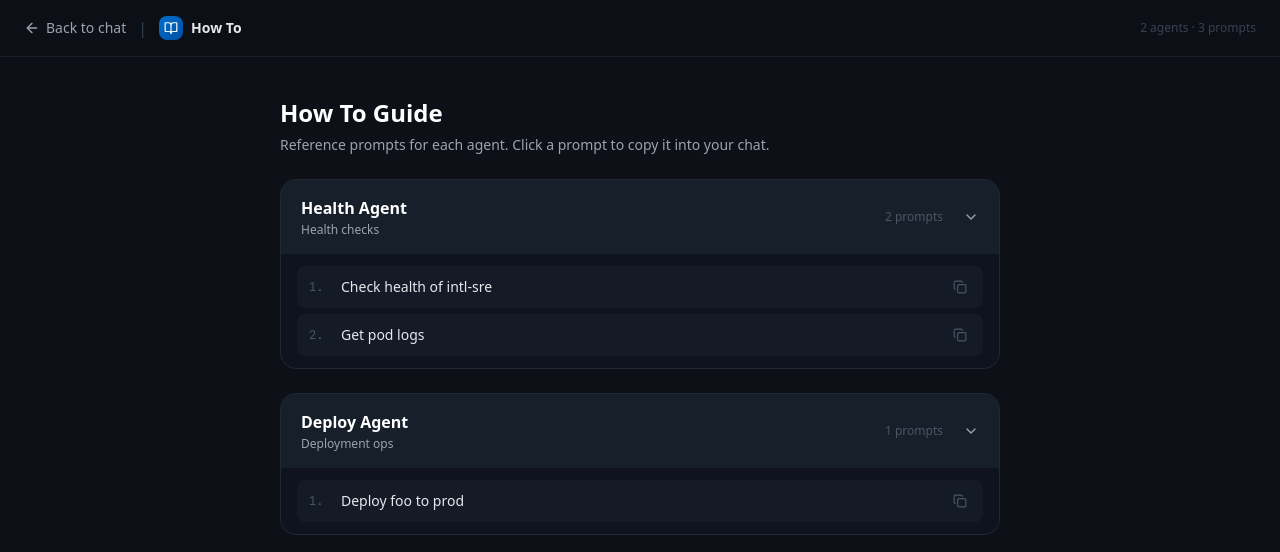
Test: HowToPage › collapses a group when its header is clicked
Expected: the text "Check health of intl-sre" is shown, 341,277 -> 492,296
Click the text "Health Agent" at [354, 208], box 301,197 -> 407,219
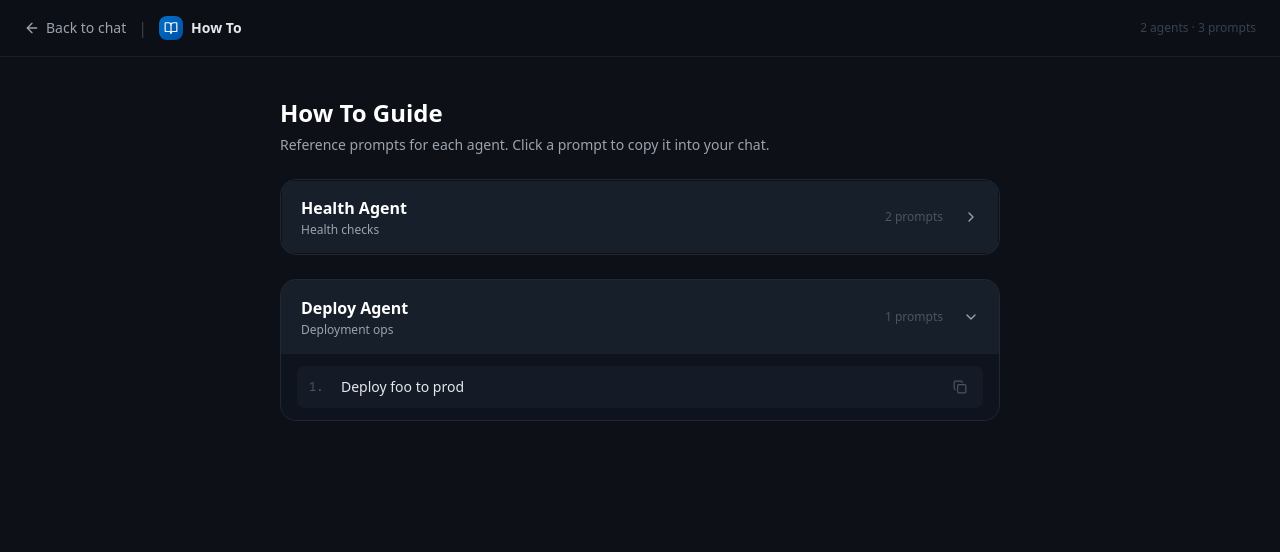
Result: the text "Check health of intl-sre" is gone
